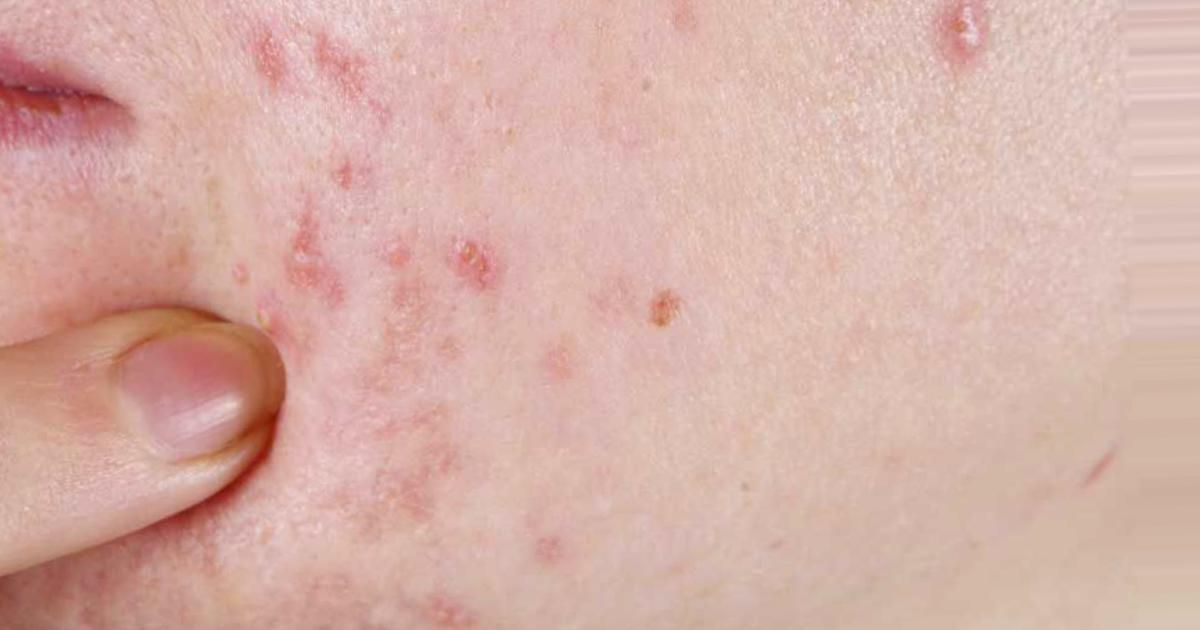Acne: (231, 21, 383, 106), (899, 3, 1030, 86), (431, 221, 519, 332), (257, 221, 351, 310), (641, 269, 722, 350)
